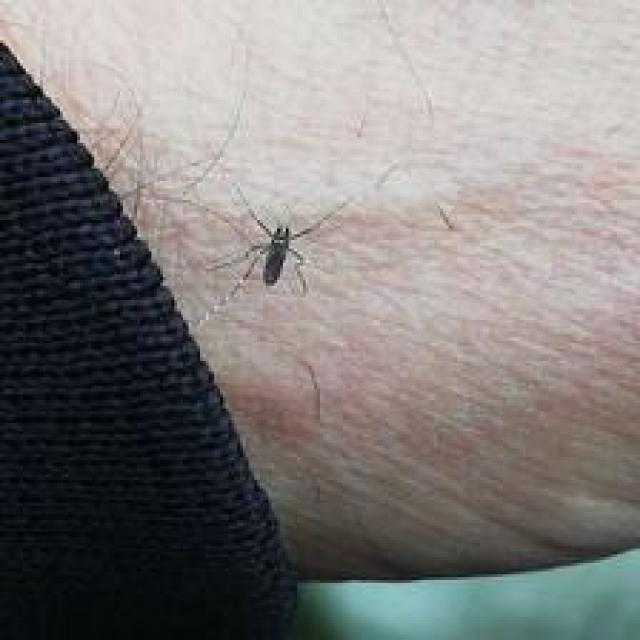Aedes albopictus: (203, 186, 351, 314)
